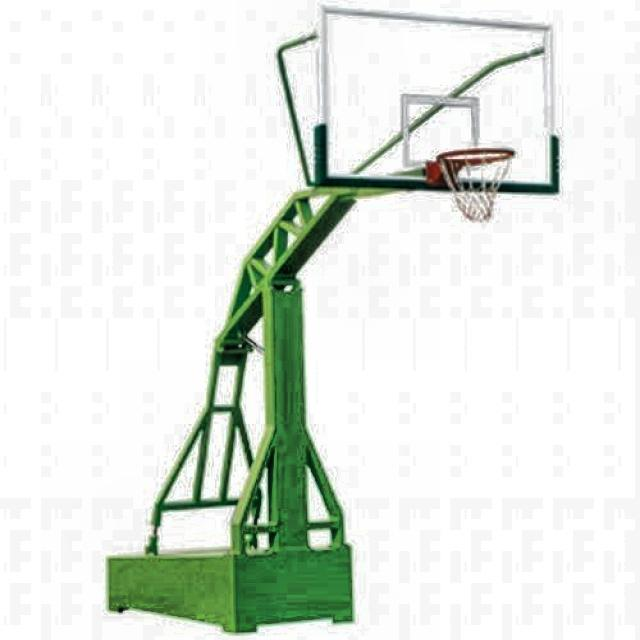rim: (442, 147, 518, 220)
